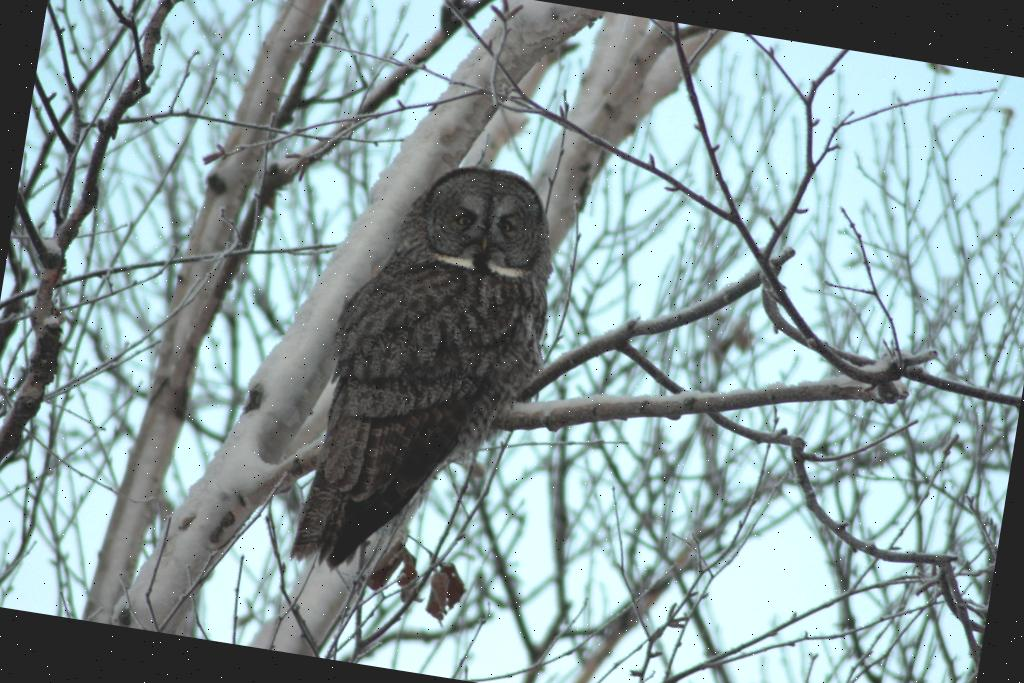Owl: (258, 138, 580, 616)
